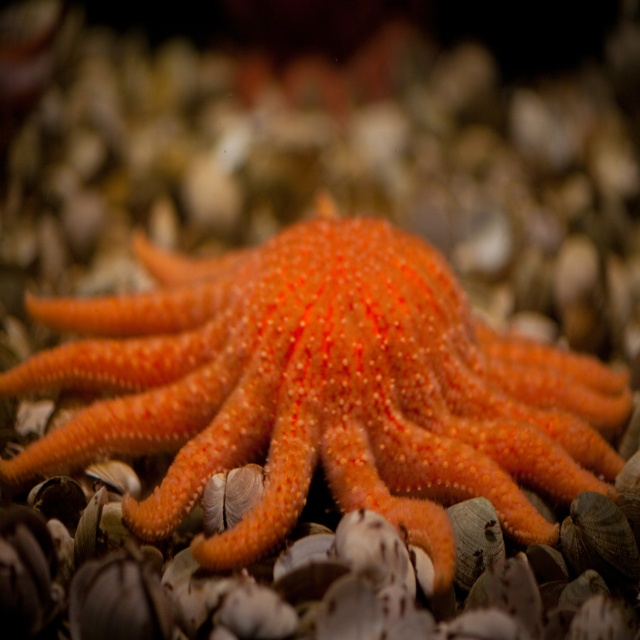Starfish: (0, 190, 634, 593)
